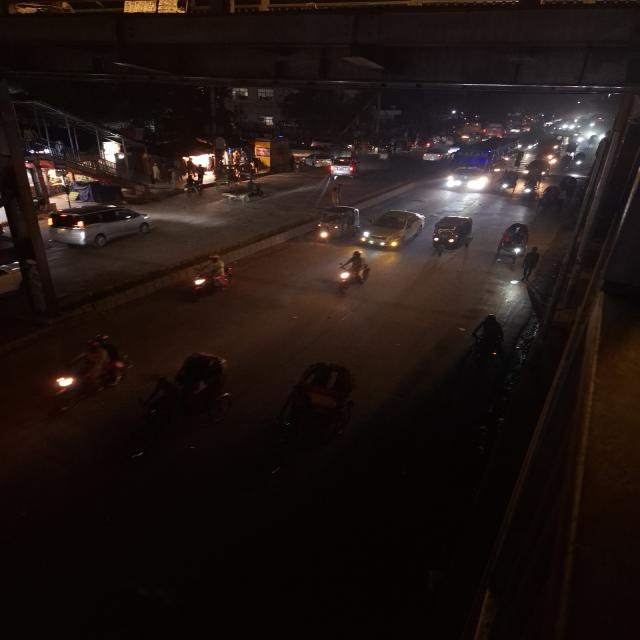bus: (444, 138, 502, 192)
car: (46, 203, 158, 251), (356, 208, 426, 250), (325, 157, 364, 179), (420, 144, 449, 164)
cng: (312, 203, 362, 244)
motorcycle: (40, 332, 135, 416), (186, 251, 240, 299), (467, 311, 508, 370), (333, 249, 373, 298), (570, 151, 586, 169)
pedestrian: (326, 185, 347, 208)
rickshaw: (266, 357, 362, 475), (429, 212, 478, 255), (494, 220, 533, 267), (217, 180, 267, 204), (497, 171, 537, 199), (513, 245, 542, 282), (534, 184, 566, 216), (372, 144, 395, 162)
